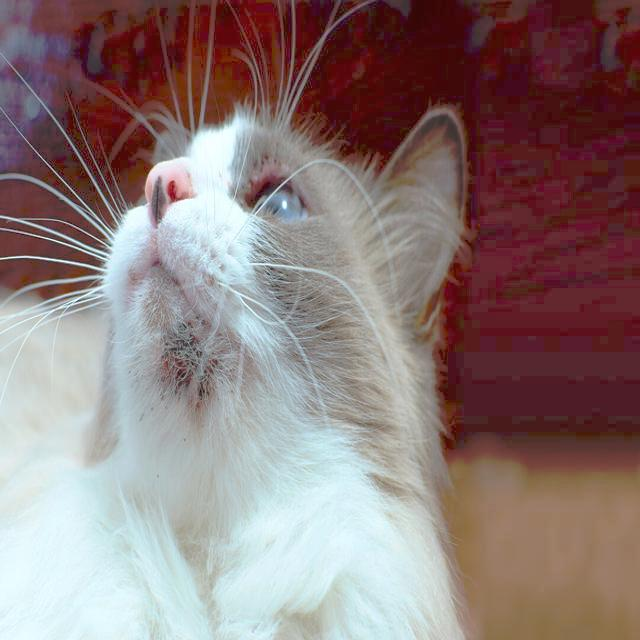acne: (156, 318, 229, 412)
